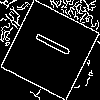I: (25, 25, 72, 59)
